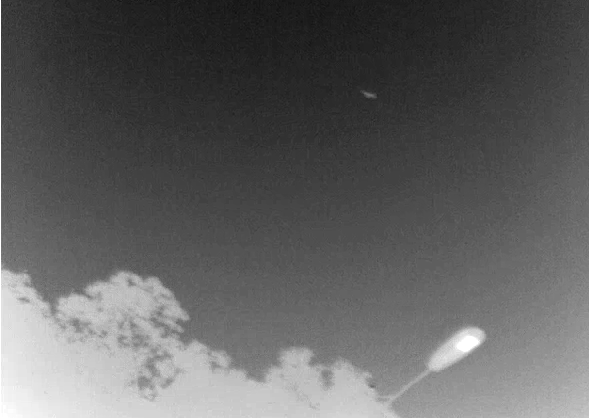dim target: (361, 89, 376, 99)
